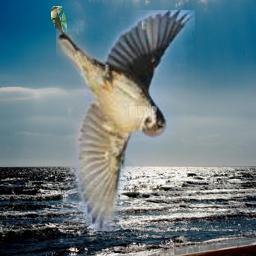Cuckoo: (51, 6, 67, 43)
Sparrow: (56, 10, 195, 231)
